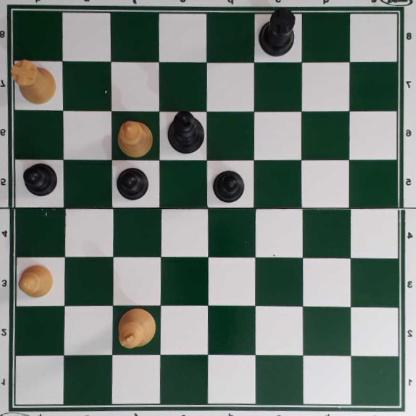black-king: (166, 109, 207, 153)
black-pawn: (22, 160, 58, 196), (212, 169, 247, 203), (117, 165, 149, 201)
black-rook: (258, 7, 297, 57)
white-bishop: (117, 120, 153, 157)
white-king: (118, 305, 157, 349)
white-pawn: (19, 263, 56, 299)
white-rook: (13, 59, 56, 104)
